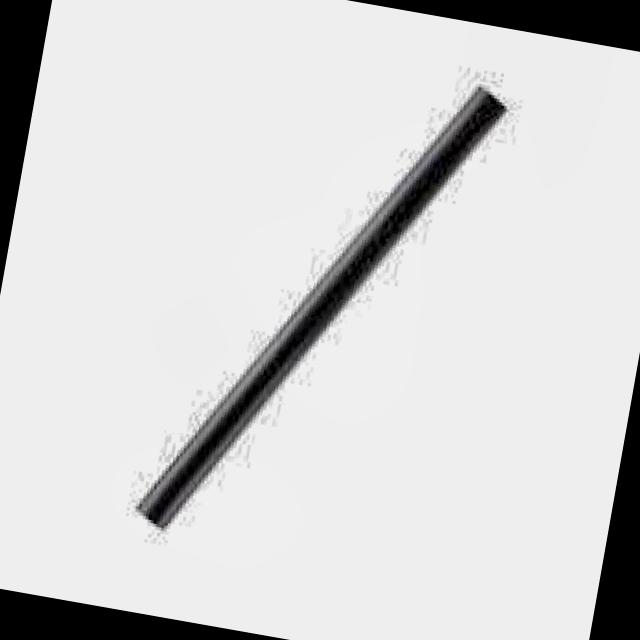plastic straw: (137, 89, 505, 525)
